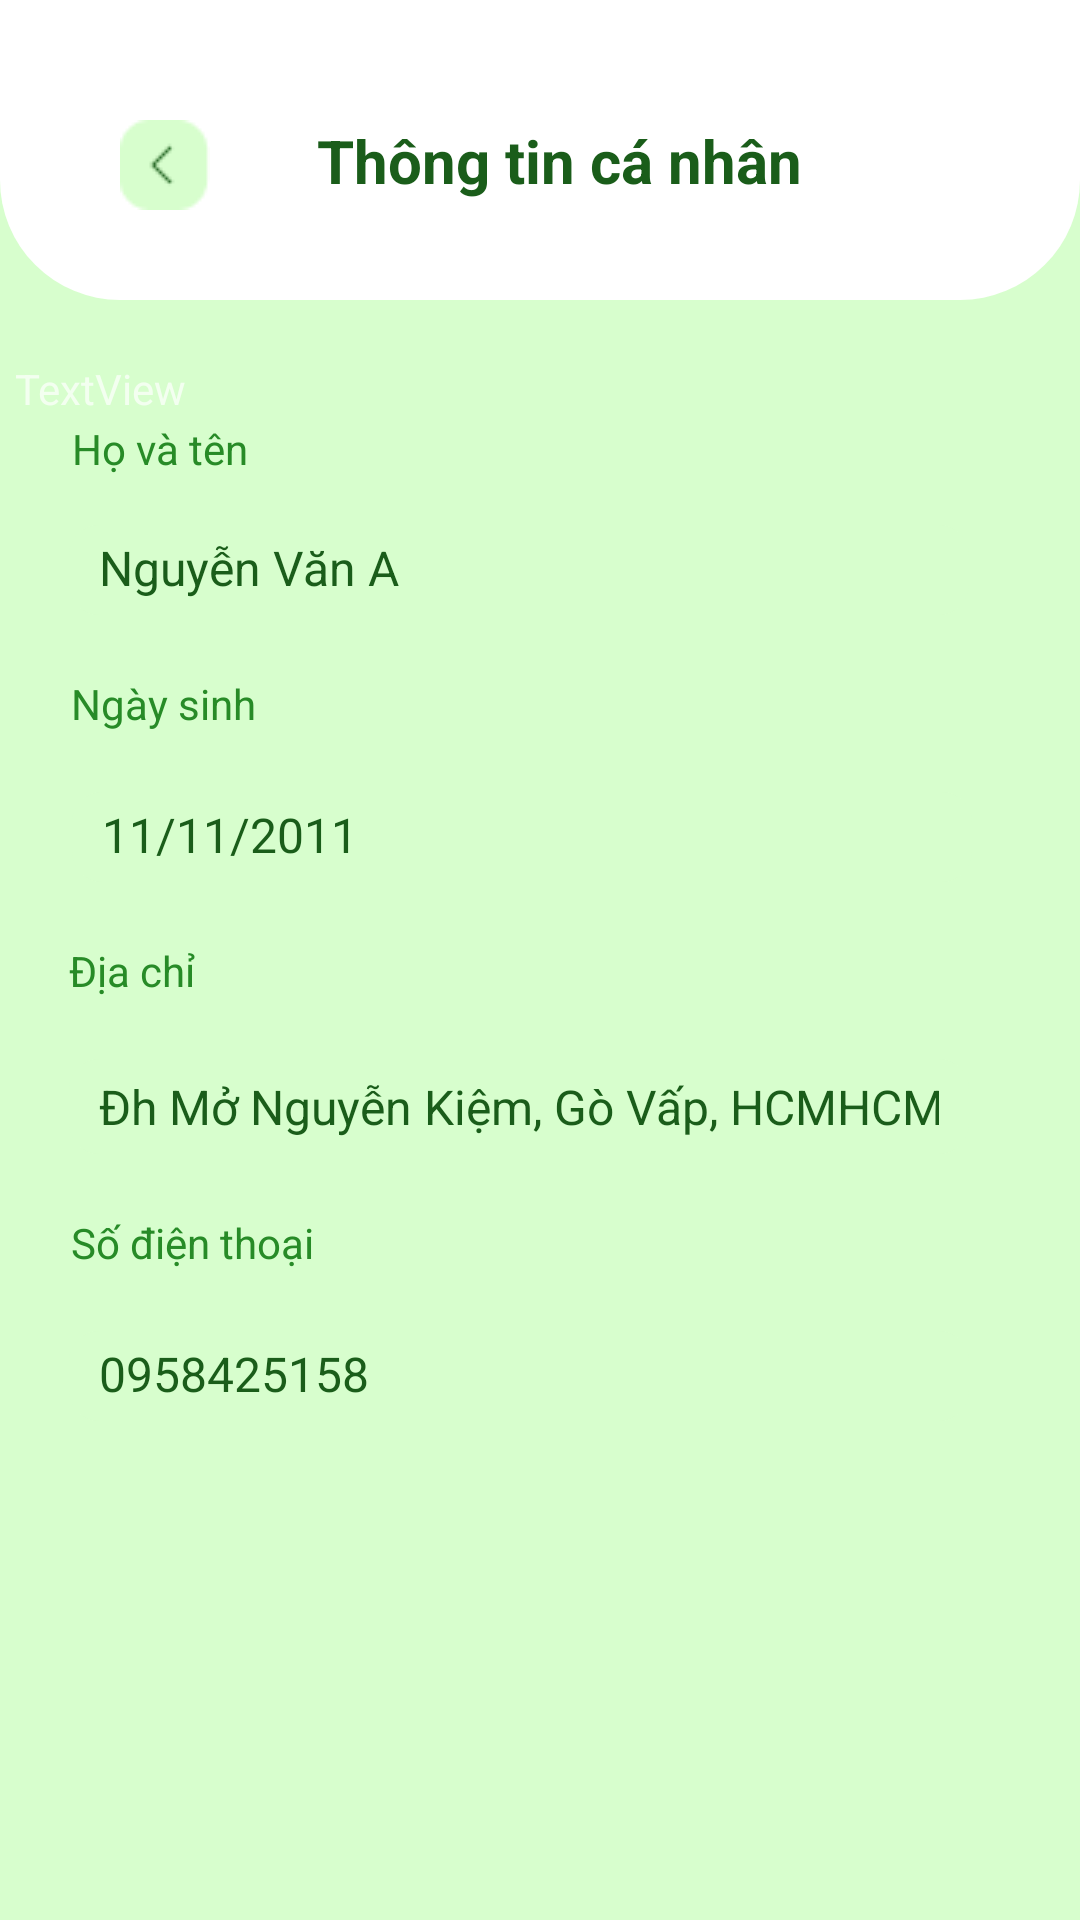

Screen size 1080×1920. Icon name, then its box in pixels as {"x1": x1, "y1": y1, "x2": x2, "y2": y2}:
expand left: {"x1": 120, "y1": 120, "x2": 207, "y2": 210}
